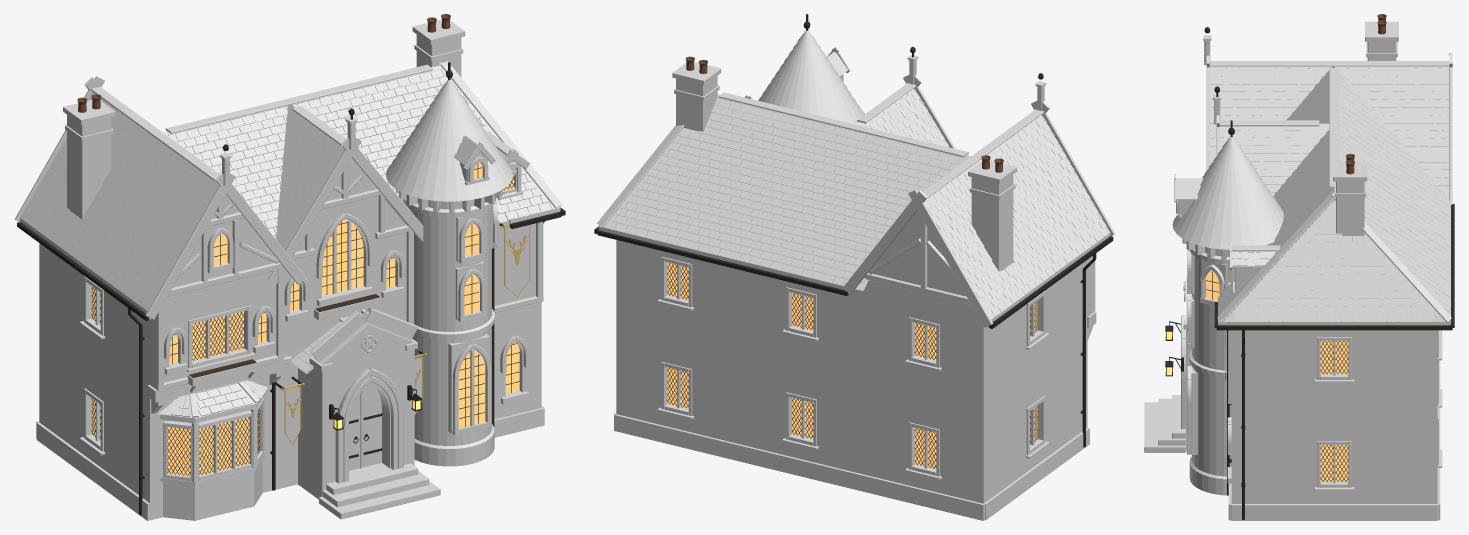
File: SilverbrookNorthridgeHouse1.glb
3 renders of one model, left to right at view 1: azimuth 30°, elevation 25°; view 2: azimuth 150°, elevation 25°; view 3: azimuth 270°, elevation 25°, orthographic. The views are drawn at different scales.
Visible parts, largest first — view 1: SM_SBNorthridgeHouse1_Masonry, SM_SBNorthridgeHouse1_Roof, SM_SBNorthridgeHouse1_Timber, SM_SBNorthridgeHouse1_Trim, SM_SBNorthridgeHouse1_Details, SM_SBNorthridgeHouse1_Plaster, SM_SBNorthridgeHouse1_Door2, SM_SBNorthridgeHouse1_Door1; view 2: SM_SBNorthridgeHouse1_Masonry, SM_SBNorthridgeHouse1_Roof, SM_SBNorthridgeHouse1_Timber, SM_SBNorthridgeHouse1_Trim, SM_SBNorthridgeHouse1_Details, SM_SBNorthridgeHouse1_Plaster; view 3: SM_SBNorthridgeHouse1_Roof, SM_SBNorthridgeHouse1_Masonry, SM_SBNorthridgeHouse1_Trim, SM_SBNorthridgeHouse1_Details, SM_SBNorthridgeHouse1_Timber, SM_SBNorthridgeHouse1_Plaster.
Boxes of the visible parts, <box> form: SM_SBNorthridgeHouse1_Masonry: <box>39,34,541,520</box>; SM_SBNorthridgeHouse1_Roof: <box>20,61,562,418</box>; SM_SBNorthridgeHouse1_Timber: <box>14,76,560,484</box>; SM_SBNorthridgeHouse1_Trim: <box>36,19,544,520</box>; SM_SBNorthridgeHouse1_Details: <box>17,14,565,515</box>; SM_SBNorthridgeHouse1_Plaster: <box>173,151,516,287</box>; SM_SBNorthridgeHouse1_Door2: <box>361,382,382,468</box>; SM_SBNorthridgeHouse1_Door1: <box>349,392,361,470</box>; SM_SBNorthridgeHouse1_Masonry: <box>616,76,1093,503</box>; SM_SBNorthridgeHouse1_Roof: <box>597,30,1110,319</box>; SM_SBNorthridgeHouse1_Timber: <box>598,47,1115,479</box>; SM_SBNorthridgeHouse1_Trim: <box>614,61,1089,520</box>; SM_SBNorthridgeHouse1_Details: <box>594,14,1113,468</box>; SM_SBNorthridgeHouse1_Plaster: <box>839,74,966,296</box>; SM_SBNorthridgeHouse1_Roof: <box>1172,61,1451,322</box>; SM_SBNorthridgeHouse1_Masonry: <box>1144,41,1437,503</box>; SM_SBNorthridgeHouse1_Trim: <box>1176,21,1440,520</box>; SM_SBNorthridgeHouse1_Details: <box>1165,14,1454,519</box>; SM_SBNorthridgeHouse1_Timber: <box>1174,35,1452,490</box>; SM_SBNorthridgeHouse1_Plaster: <box>1180,200,1262,290</box>.
Bounding box in the file's own units: 11.49 × 9.95 × 7.83.
